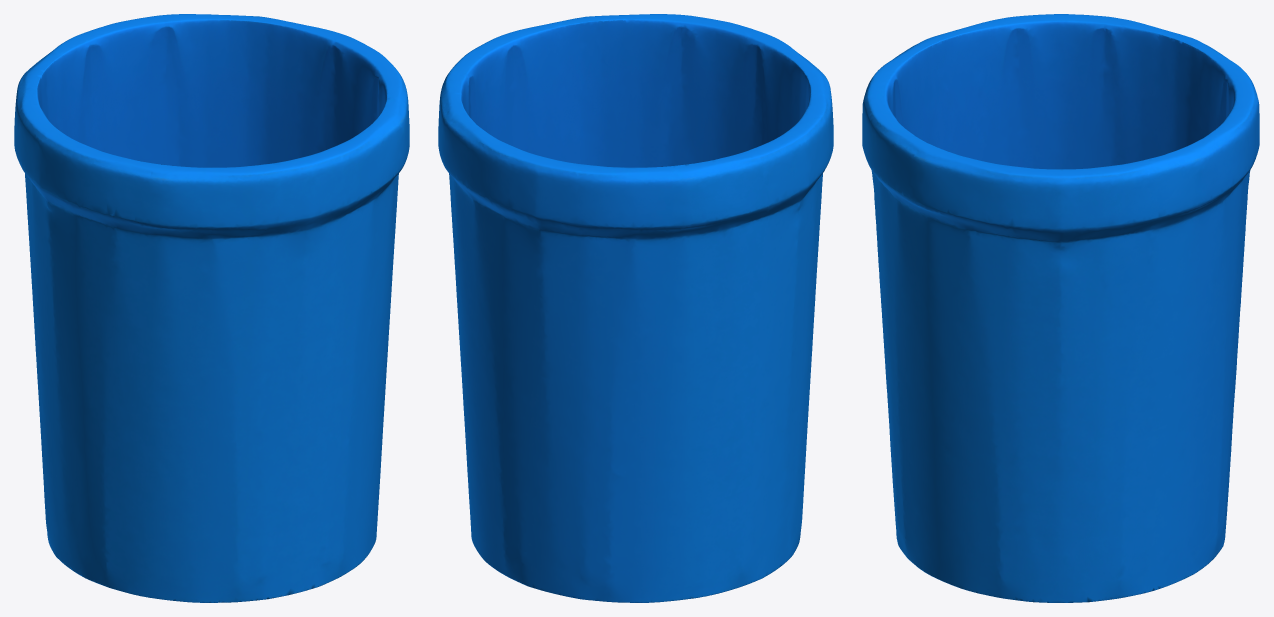
The model's file is Meshy_AI_Blue_Trash_Can_0903040104_texture.fbx.
3 views of the same model, side by side, from view 1: azimuth 30°, elevation 25°; view 2: azimuth 150°, elevation 25°; view 3: azimuth 270°, elevation 25° (orthographic).
Visible parts, largest first — view 1: mesh_node; view 2: mesh_node; view 3: mesh_node.
Boxes of the visible parts, x1,y1,x2,y2 form: mesh_node: [14, 14, 409, 602]; mesh_node: [438, 14, 833, 602]; mesh_node: [862, 14, 1259, 602].
Size of the model in its own units: 156 by 190 by 156.
Materials: 1 (1 with a texture image).
